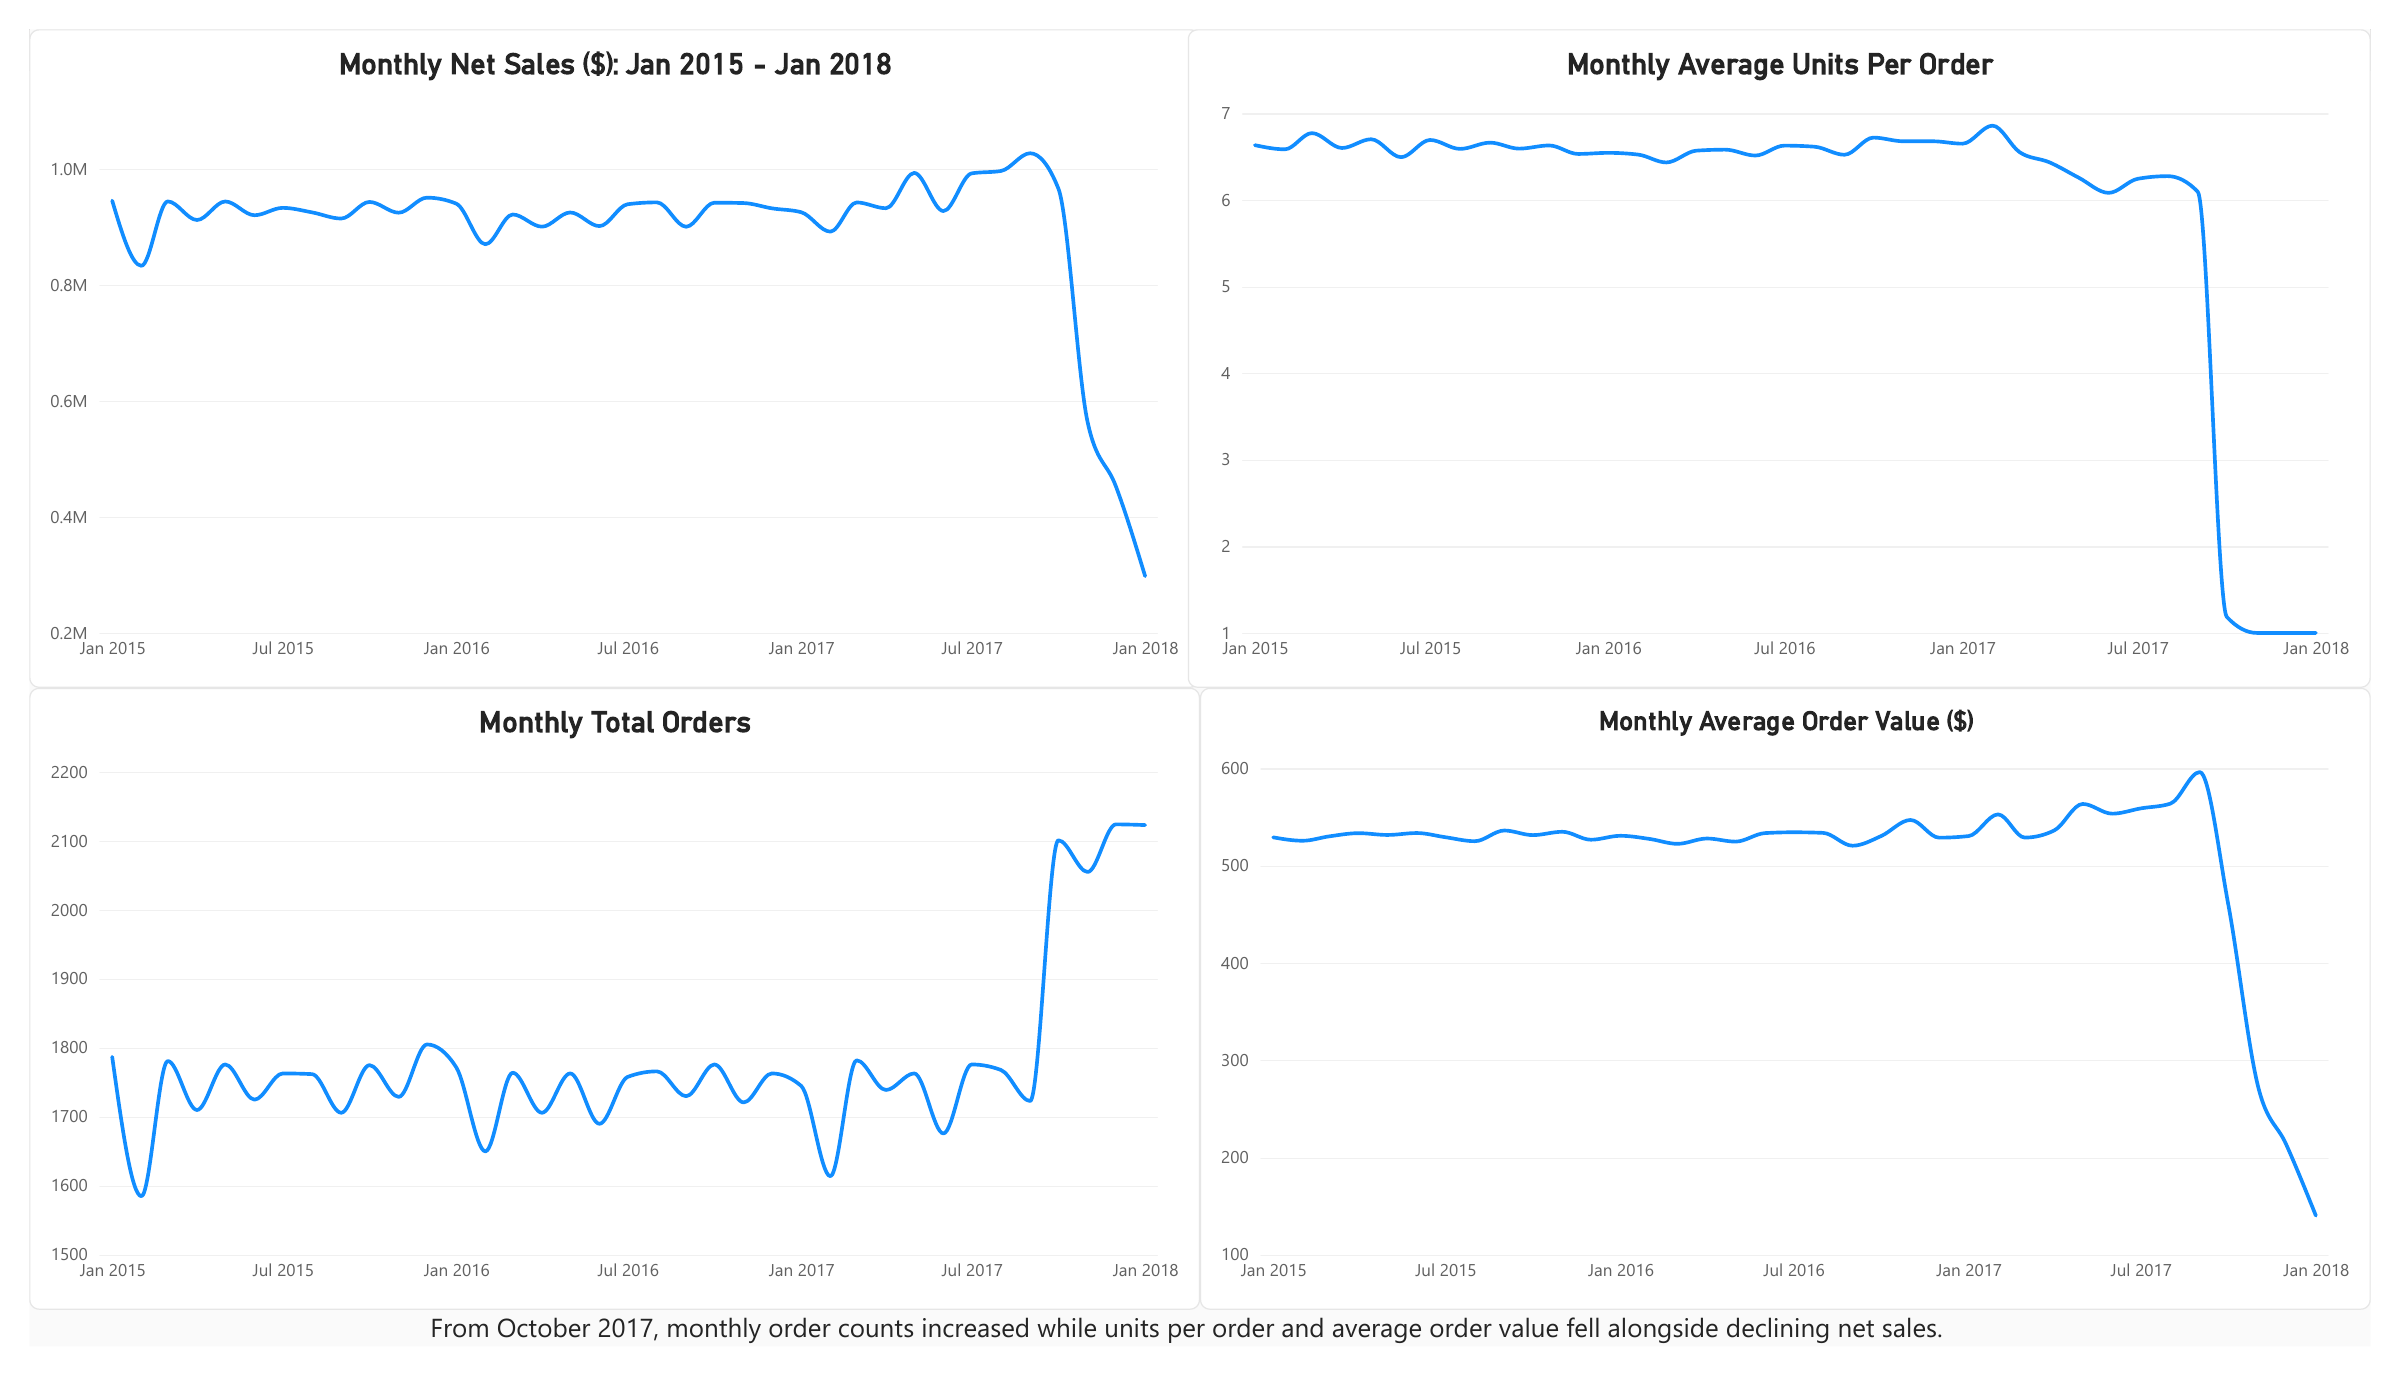

The dashboard page shown, as its layout file describes it:
{"tool":"powerbi","page":{"name":"Overview","canvas":[1920,1080],"ordinal":1},"visuals":[{"type":"lineChart","title":"Monthly Net Sales ($): Jan 2015 - Jan 2018","fields":{"Category":["dim_date.month_start"],"Y":["_Measures.Net Sales"]},"box":[0,0,960,539.8],"z":0},{"type":"lineChart","title":"Monthly Average Units Per Order","fields":{"Category":["dim_date.month_start"],"Y":["_Measures.Average Units per Order"]},"box":[949.8,0,970.2,539.8],"z":1000},{"type":"lineChart","title":"Monthly Total Orders ","fields":{"Category":["dim_date.month_start"],"Y":["_Measures.Total Orders"]},"box":[0,539.8,960,510.6],"z":2000},{"type":"lineChart","title":"Monthly Average Order Value ($)","fields":{"Category":["dim_date.month_start"],"Y":["_Measures.Average Order Value"]},"box":[960,539.8,960,510.6],"z":3000},{"type":"textbox","box":[100,100,300,300],"z":4000},{"type":"textbox","box":[100,100,300,300],"z":5000},{"type":"textbox","box":[131.3,1050.5,1635.5,29.2],"z":6000}]}

Visuals, with their boxes in screenshot pixels (x1, y1, x2, y2), scaled from the page's 1920x1080 canvas onto the 2400x1376 screenshot:
"Monthly Net Sales ($): Jan 2015 - Jan 2018" lineChart: left=0, top=0, right=1200, bottom=688
"Monthly Average Units Per Order" lineChart: left=1187, top=0, right=2399, bottom=688
"Monthly Total Orders " lineChart: left=0, top=688, right=1200, bottom=1338
"Monthly Average Order Value ($)" lineChart: left=1200, top=688, right=2399, bottom=1338
textbox: left=125, top=127, right=500, bottom=510
textbox: left=125, top=127, right=500, bottom=510
textbox: left=164, top=1338, right=2208, bottom=1375
